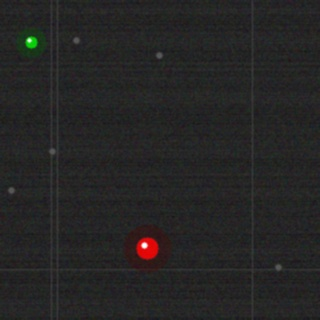green_normal: (23, 34, 39, 50)
red_fault: (134, 235, 160, 261)
